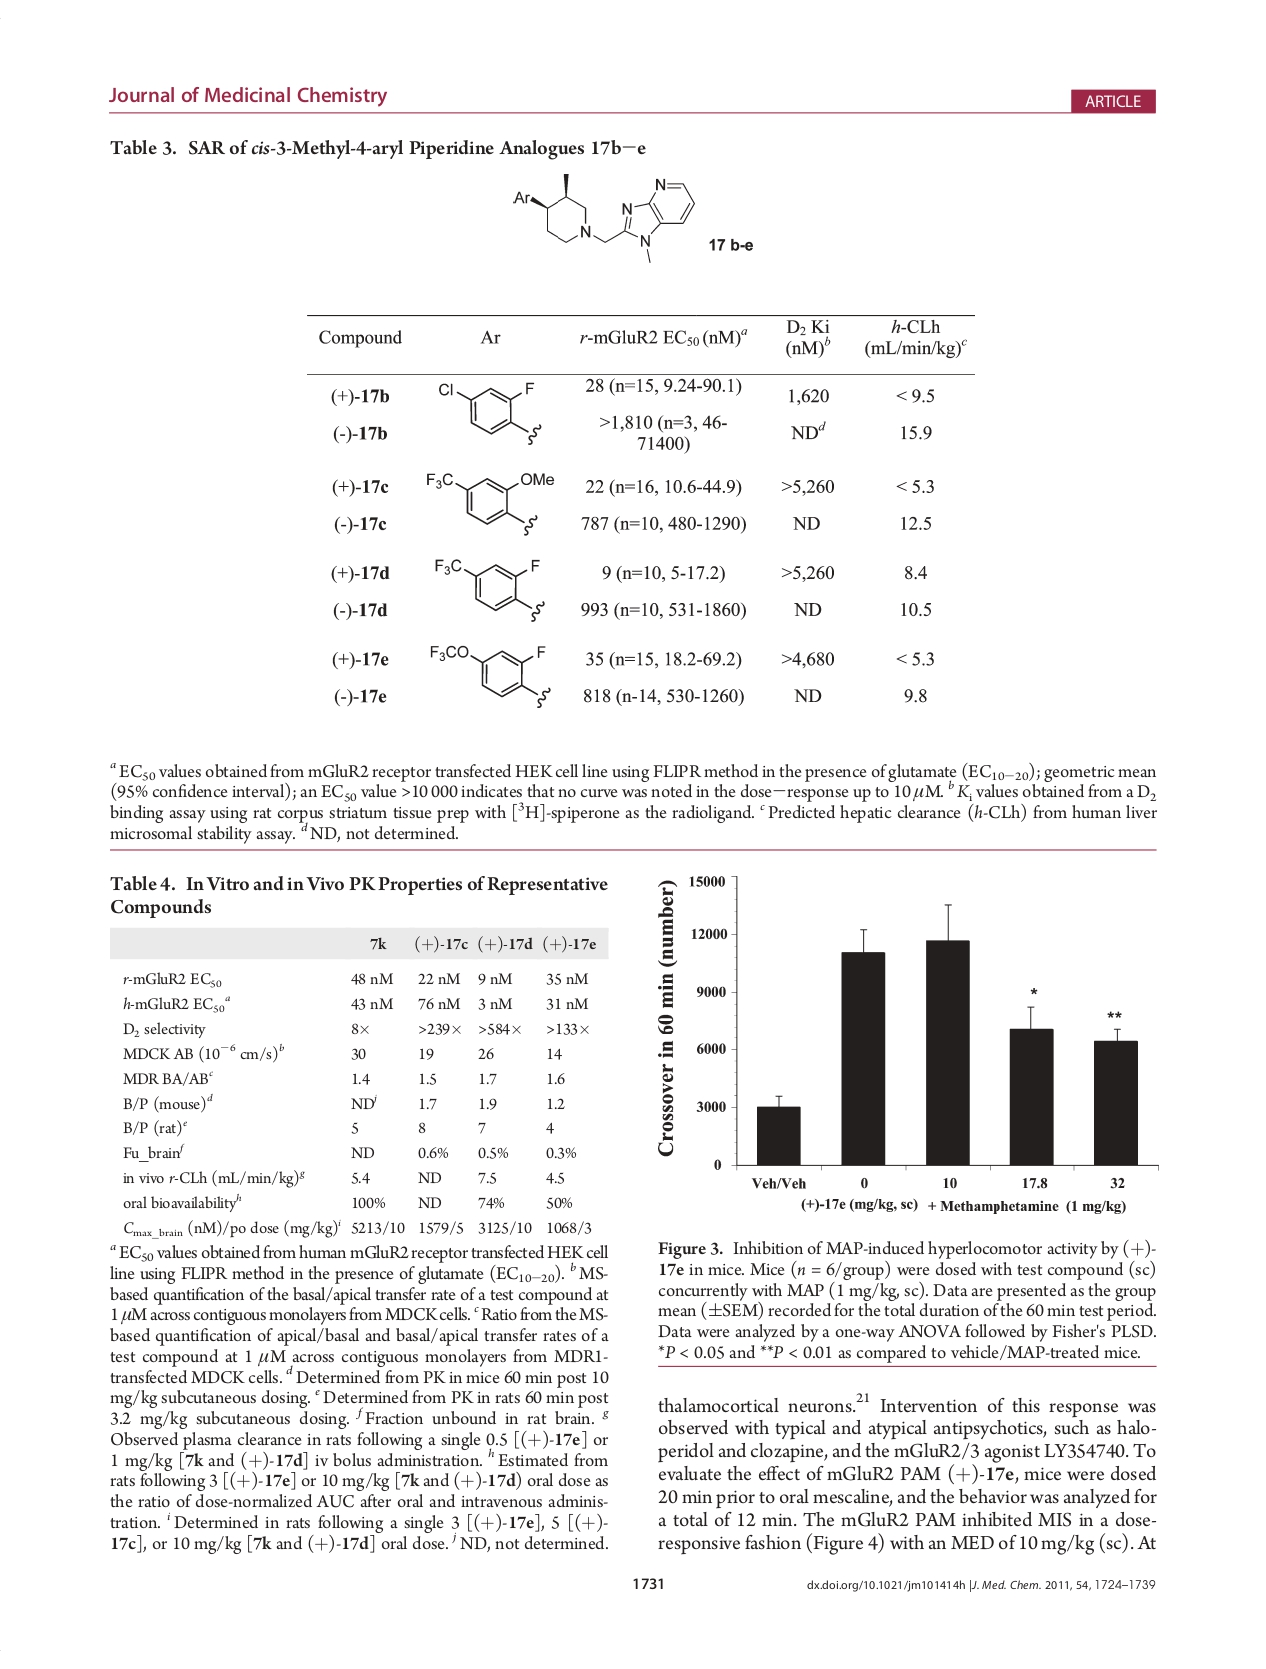exist_molecular: (509, 172, 701, 267), (420, 465, 559, 539), (430, 551, 557, 629), (426, 638, 557, 709), (434, 378, 549, 447)
